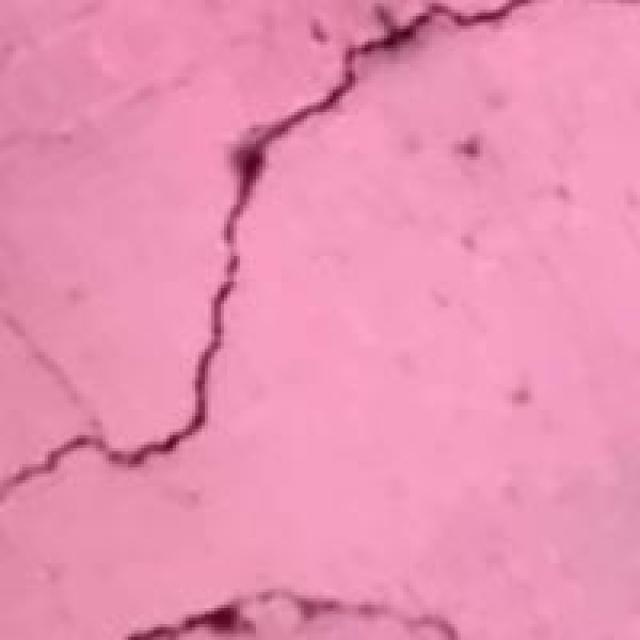crack: (0, 0, 490, 544)
